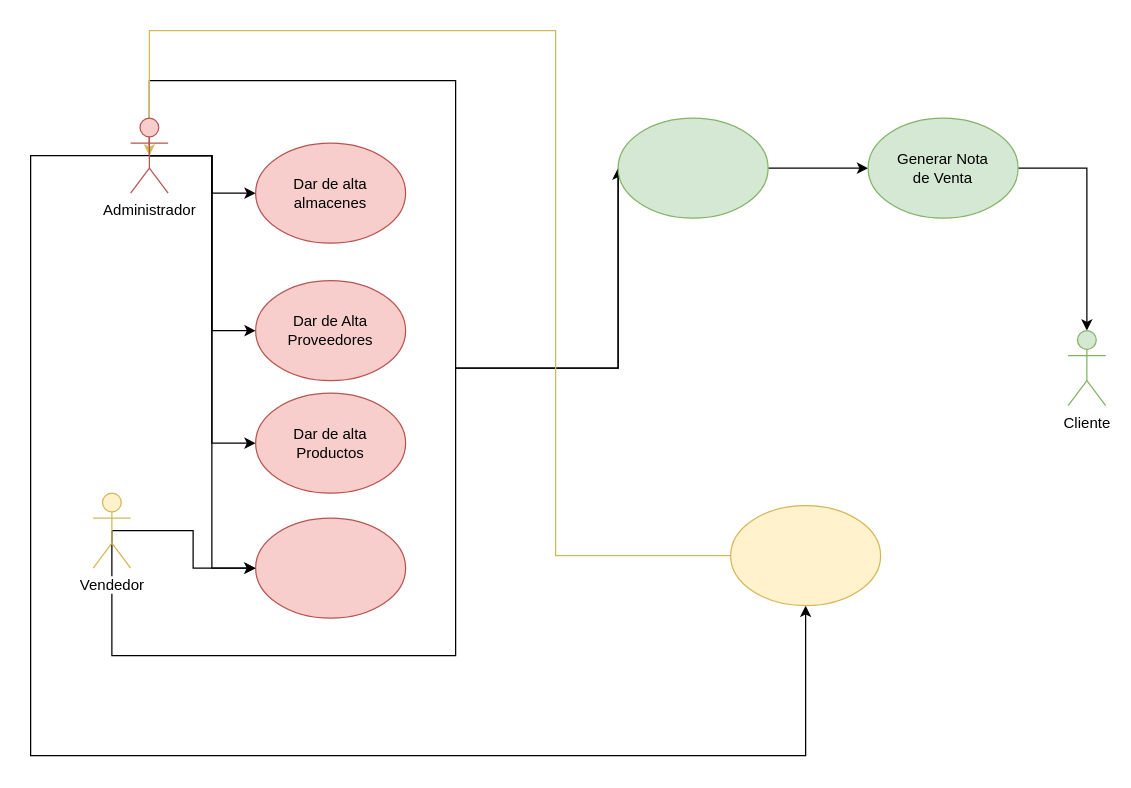
This 1131x788 diagram has some shape labels left out. The centre of each missing label's shape, as x and y in pixels:
Dar de alta Clientes: the point at 330,567
Generar Reportes: the point at 805,555
Generar Venta: the point at 692,167
